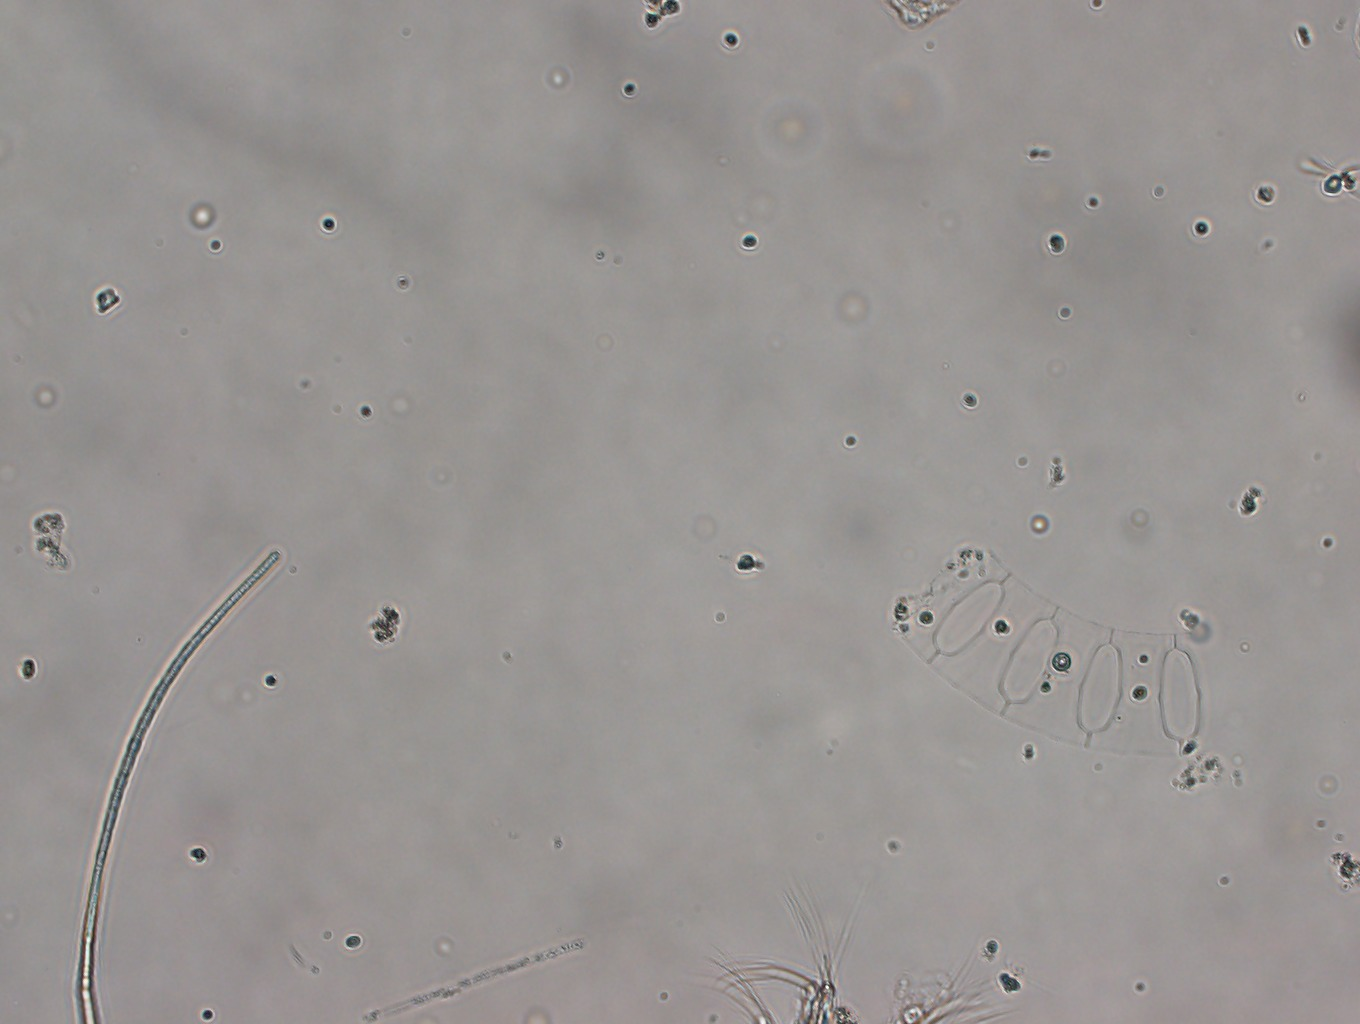eucampia: (874, 523, 1226, 766)
